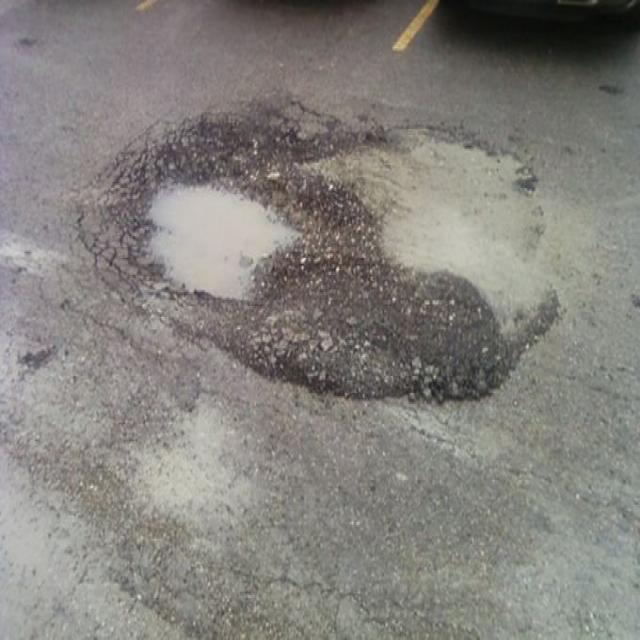pothole: (228, 260, 560, 406), (100, 149, 310, 317)
